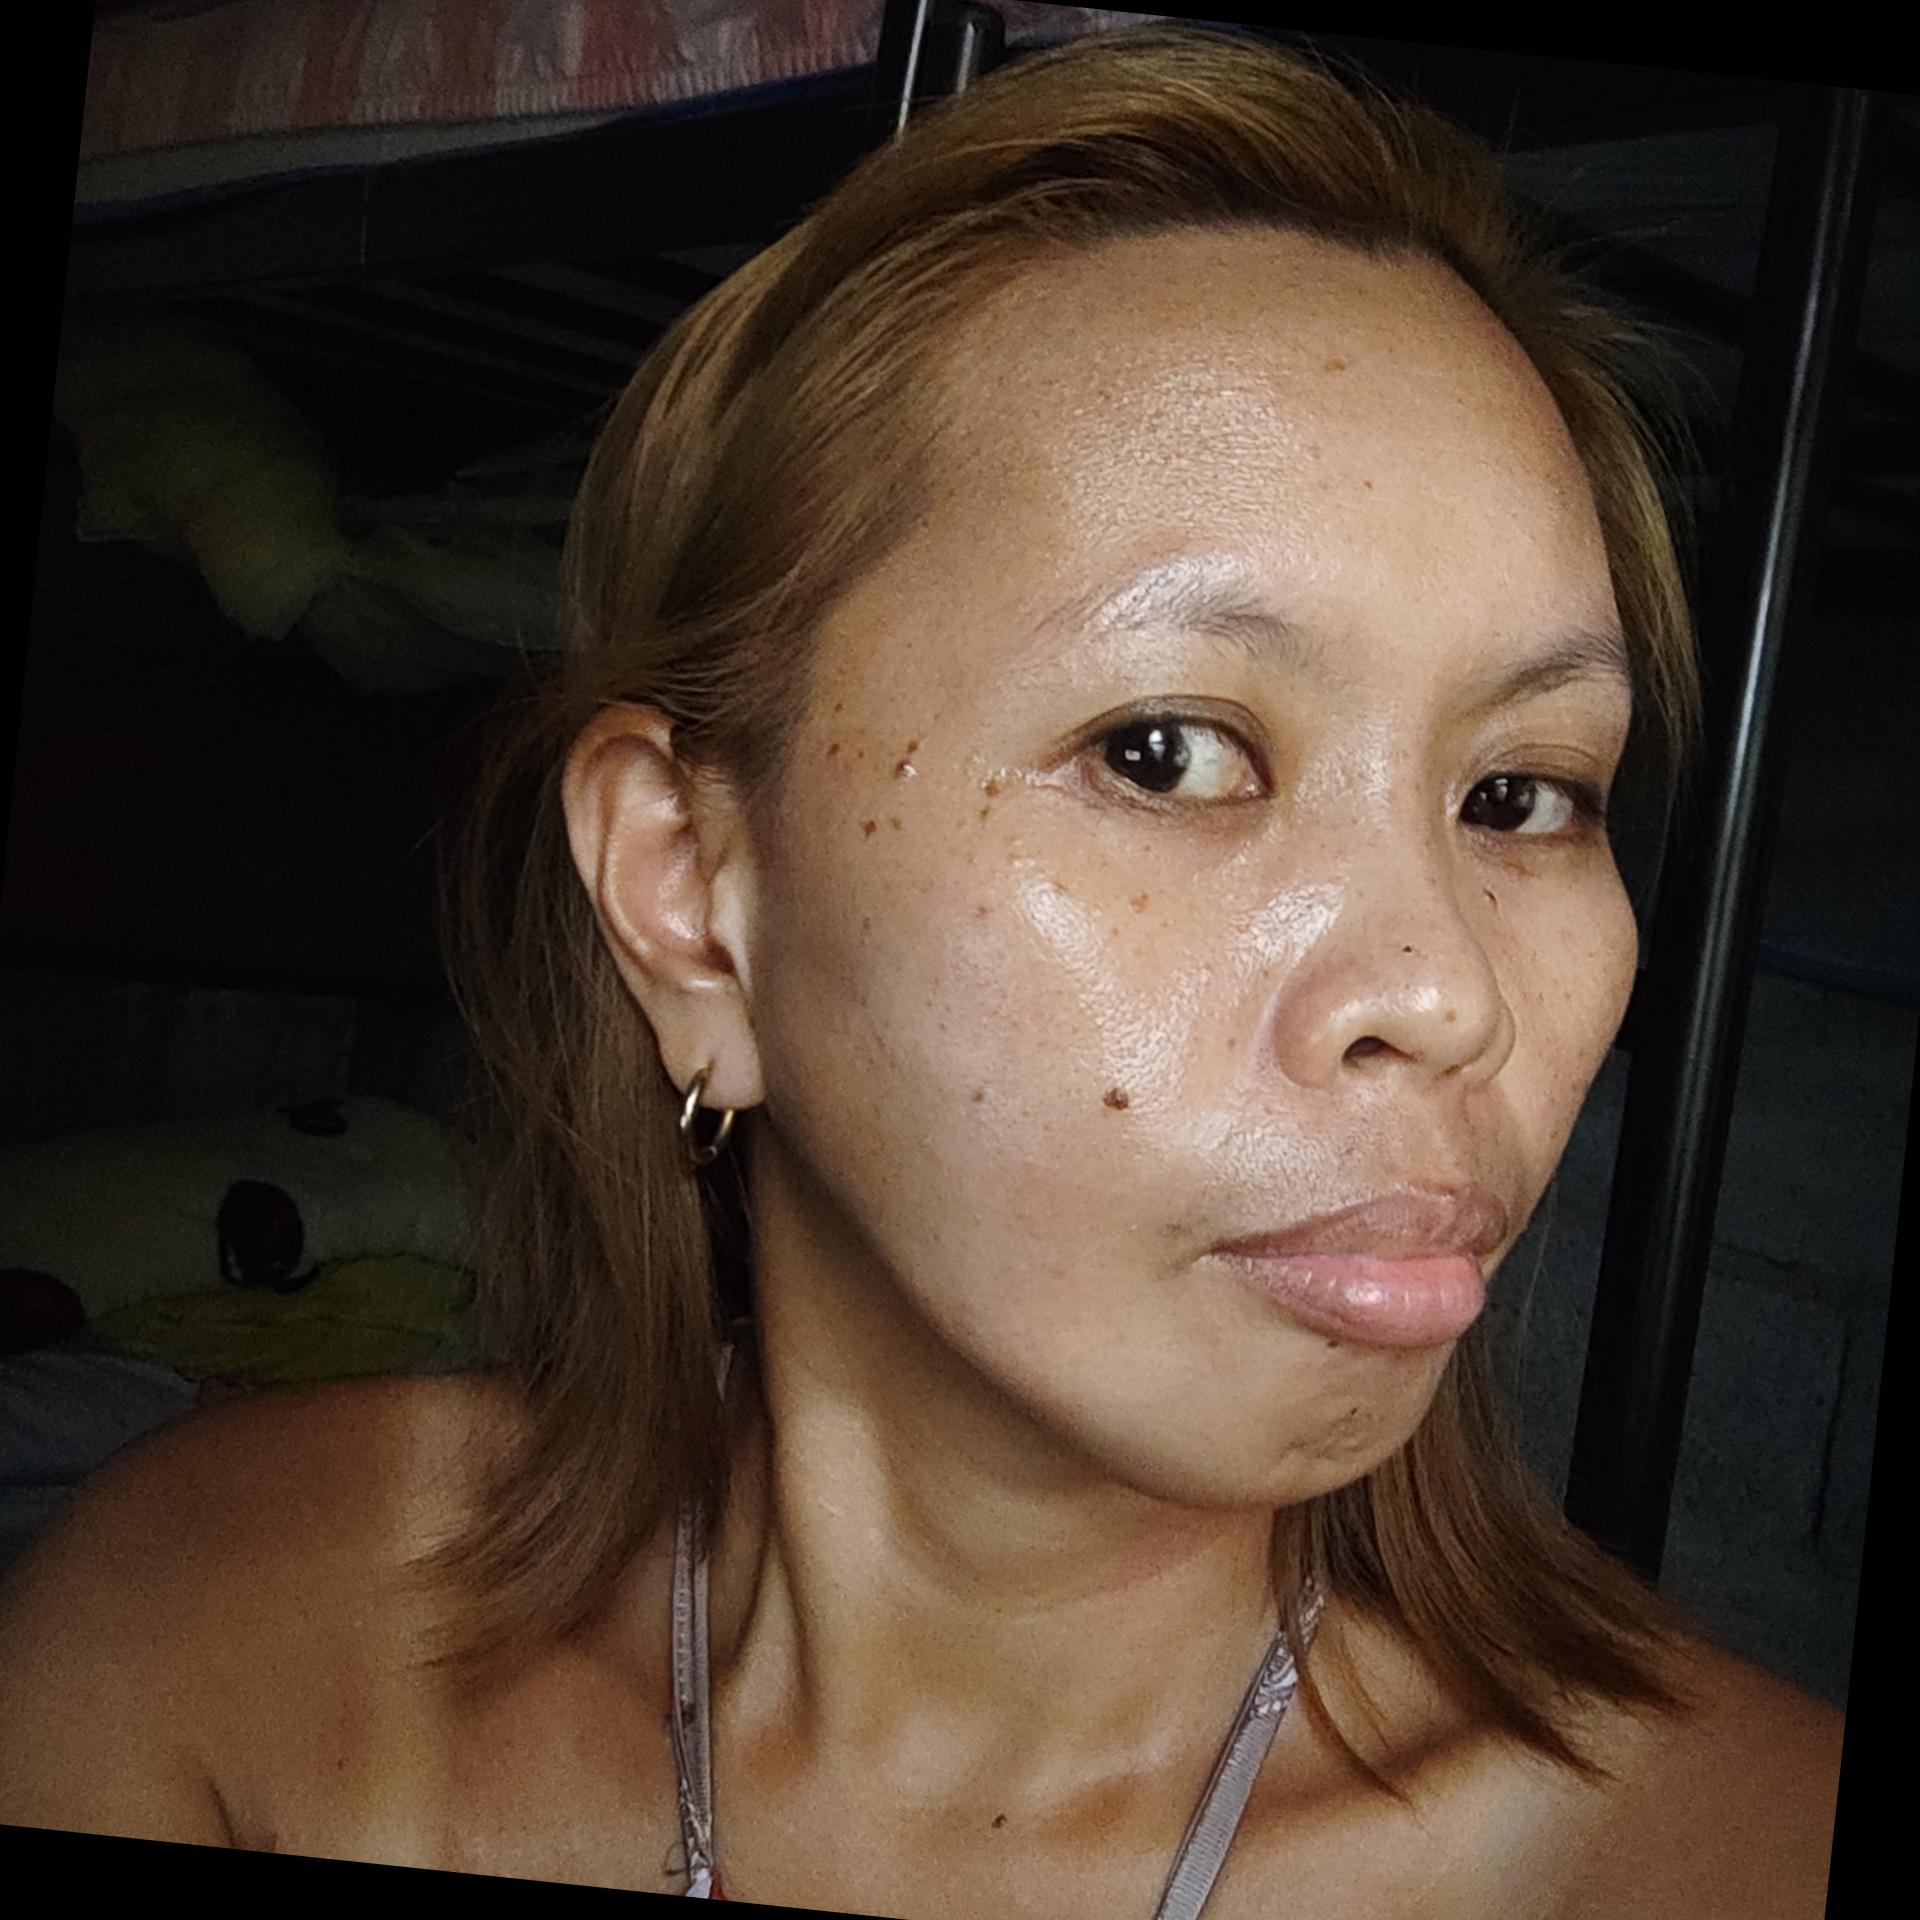Englarged Pores: (1032, 932, 1218, 1069), (1224, 856, 1331, 976)
